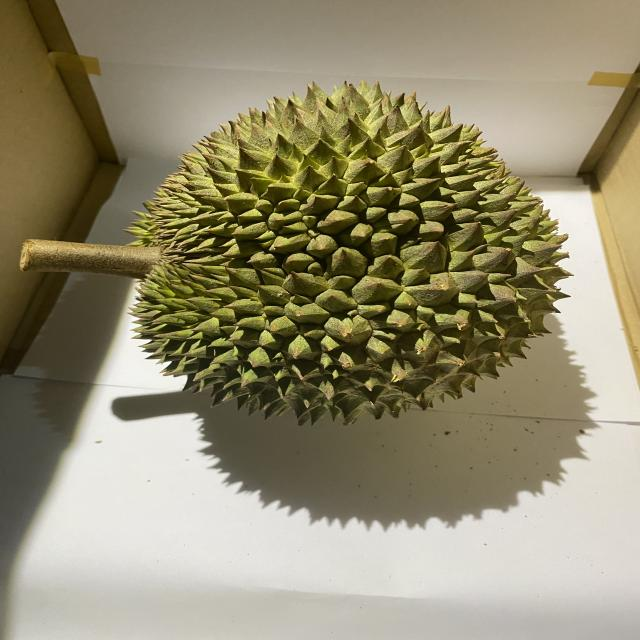immature: (122, 81, 577, 428)
